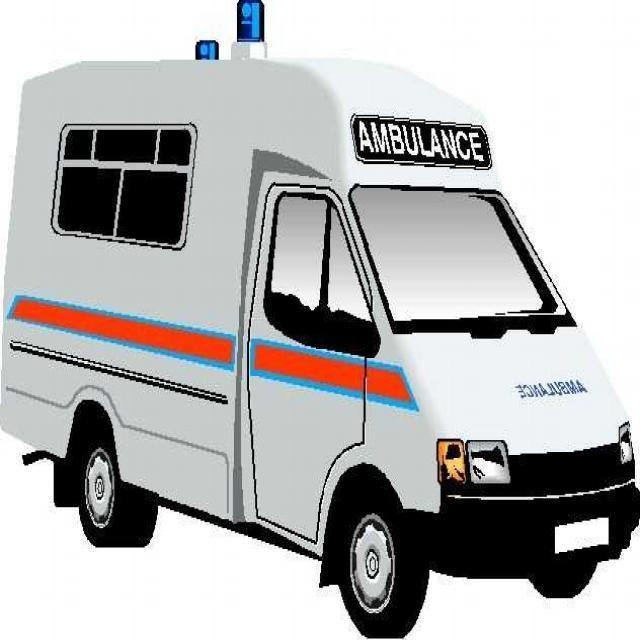emergency-vehicle: (1, 6, 638, 637)
